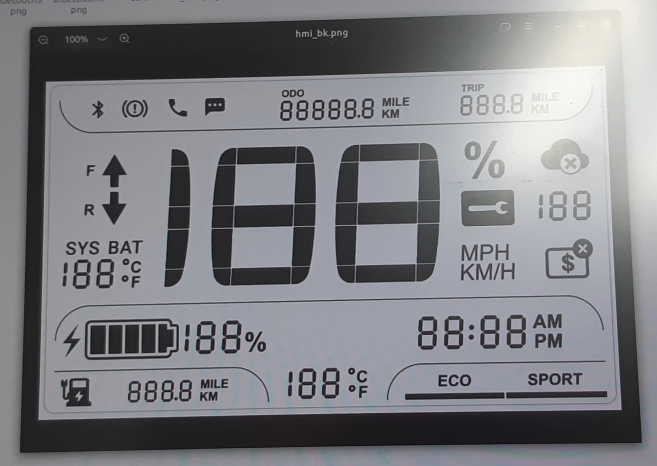bluetooth_on: (89, 98, 108, 120)
braking_on: (120, 97, 150, 120)
calling_on: (165, 96, 191, 120)
connection_lost: (538, 136, 591, 178)
error_code: (458, 187, 518, 227)
low_battery: (58, 374, 97, 410)
sms_on: (202, 95, 227, 119)
vin_id: (543, 237, 594, 282)
